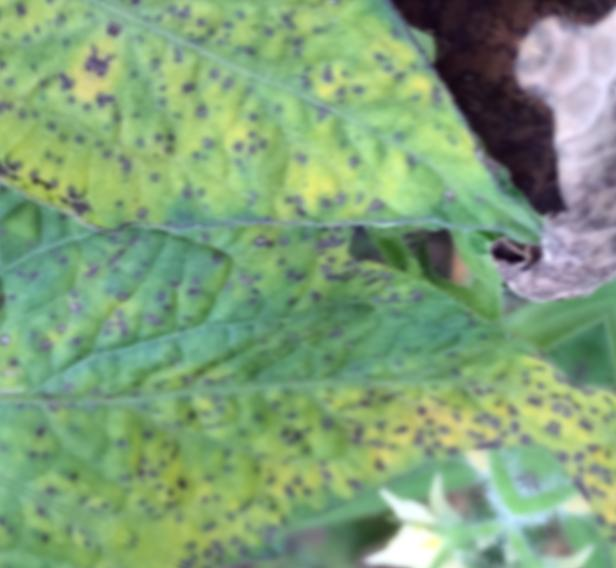Tomato Septoria leaf spot: (0, 87, 601, 568), (9, 0, 616, 470)
